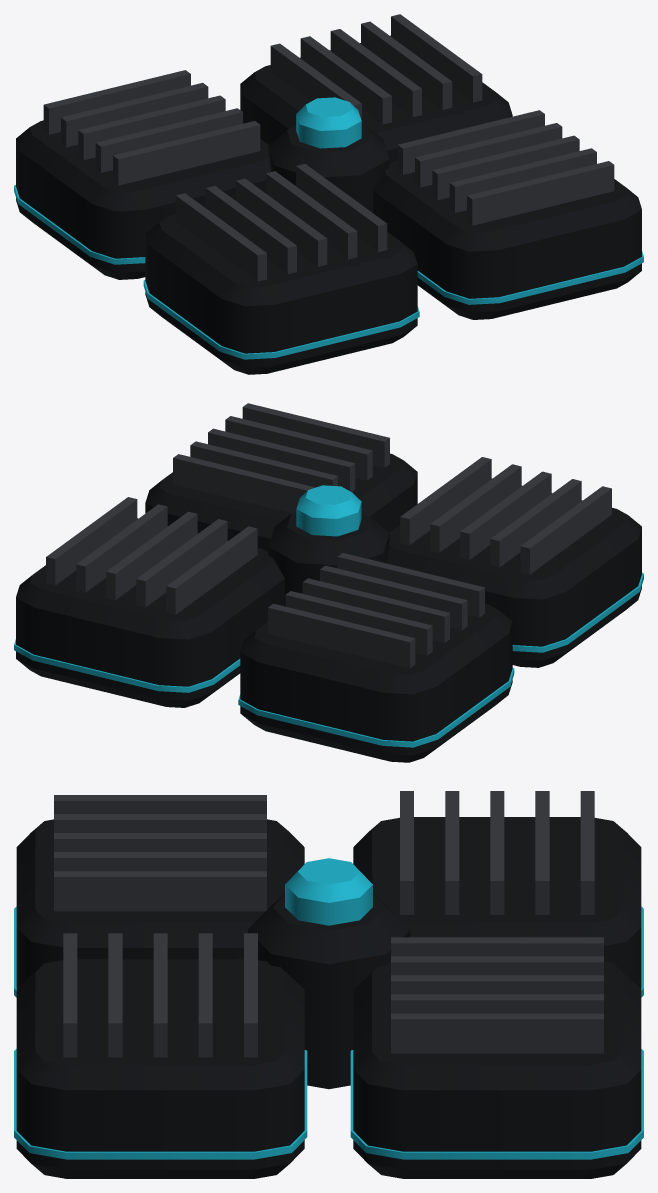
3 views of the same model, one above another, from view 1: azimuth 30°, elevation 25°; view 2: azimuth 150°, elevation 25°; view 3: azimuth 270°, elevation 25° (orthographic). The views are drawn at different scales.
Visible parts, largest first — view 1: n10_rx; view 2: n10_rx; view 3: n10_rx.
Part boxes in pixels (bbox=[...]): n10_rx: bbox=[14, 14, 643, 374]; n10_rx: bbox=[14, 403, 643, 762]; n10_rx: bbox=[14, 791, 643, 1178].
Bounding box in the file's own units: 1.01 × 0.323 × 1.01.
